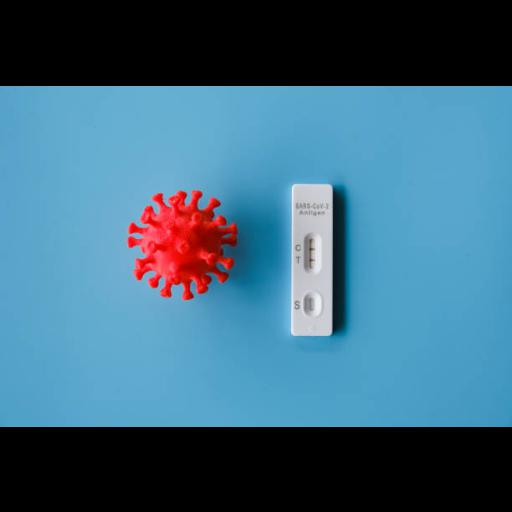Pos: (290, 182, 332, 336)
